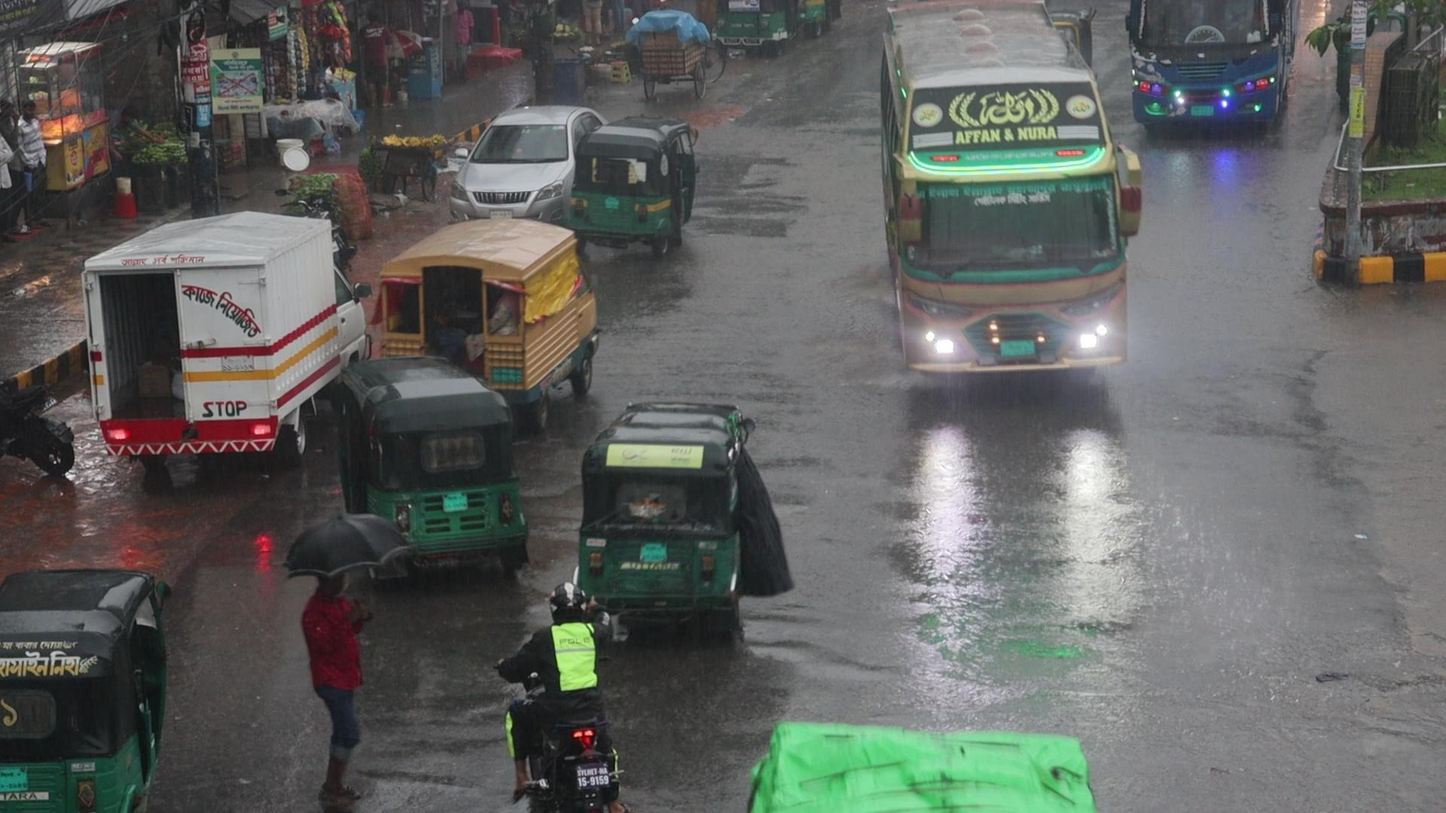Bike: (492, 578, 625, 813)
Bus: (878, 2, 1142, 397)
